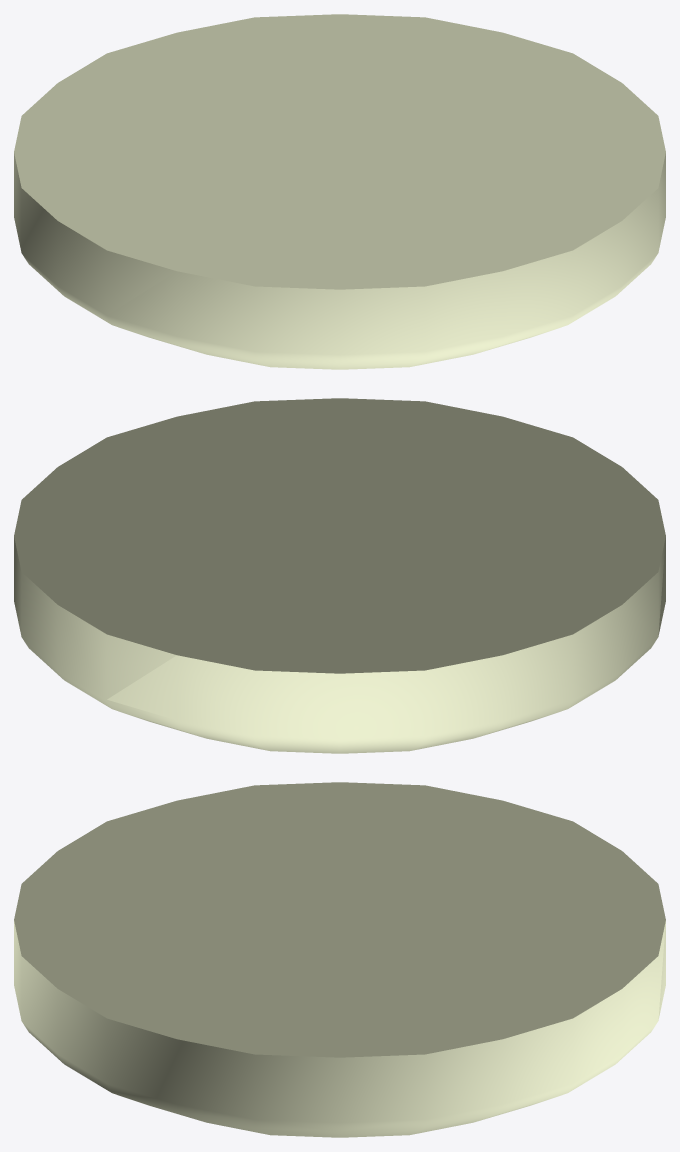
File: 5_material25LuceSoffitto.fbx
The picture shows the model from 3 angles, top to bottom: view 1: azimuth 30°, elevation 25°; view 2: azimuth 150°, elevation 25°; view 3: azimuth 270°, elevation 25°; orthographic projection.
Parts seen in each view (by area): view 1: 5_material25_1_0_0.002_luceSoffitto; view 2: 5_material25_1_0_0.002_luceSoffitto; view 3: 5_material25_1_0_0.002_luceSoffitto.
Boxes of the visible parts, box(x1,y1,x2,y2) form: 5_material25_1_0_0.002_luceSoffitto: box(14, 14, 665, 369); 5_material25_1_0_0.002_luceSoffitto: box(14, 398, 665, 753); 5_material25_1_0_0.002_luceSoffitto: box(14, 782, 665, 1137).
Bounding box in the file's own units: 228 × 60.68 × 228.
